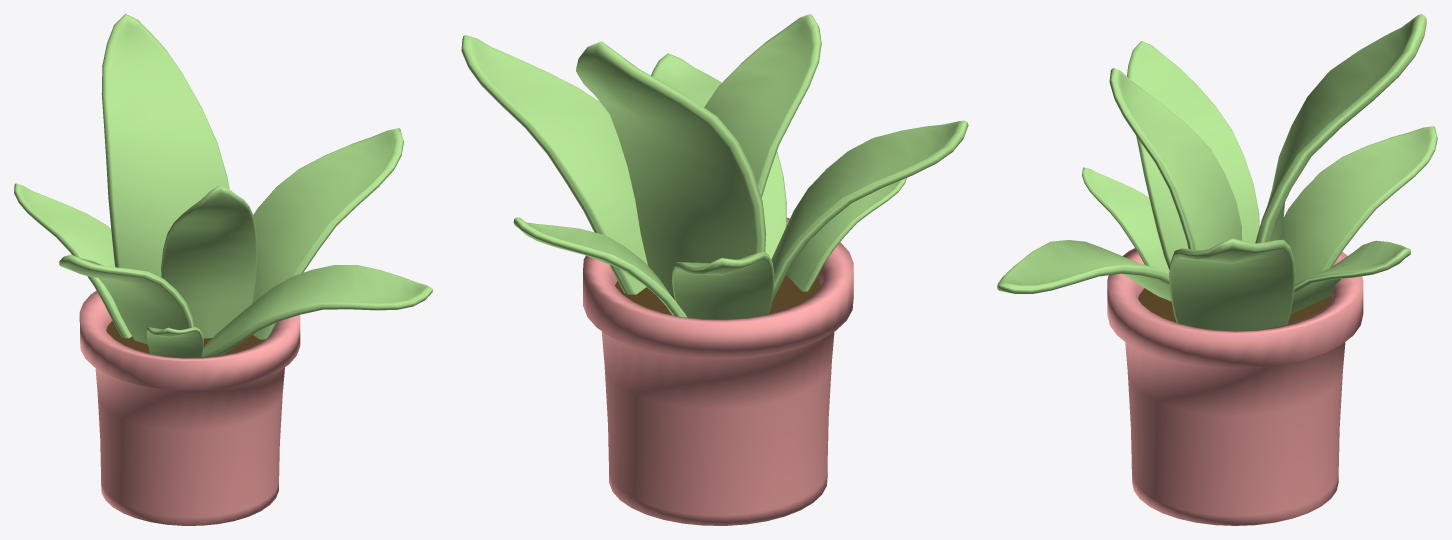
File: plant.fbx
3 renders of one model, left to right at view 1: azimuth 30°, elevation 25°; view 2: azimuth 150°, elevation 25°; view 3: azimuth 270°, elevation 25°, orthographic. The views are drawn at different scales.
Parts seen in each view (by area): view 1: plant; view 2: plant; view 3: plant.
Boxes of the visible parts, <box> form: plant: <box>14,14,432,525</box>; plant: <box>461,14,968,525</box>; plant: <box>997,14,1437,525</box>.
Bounding box in the file's own units: 1.33 × 1.4 × 1.17.
